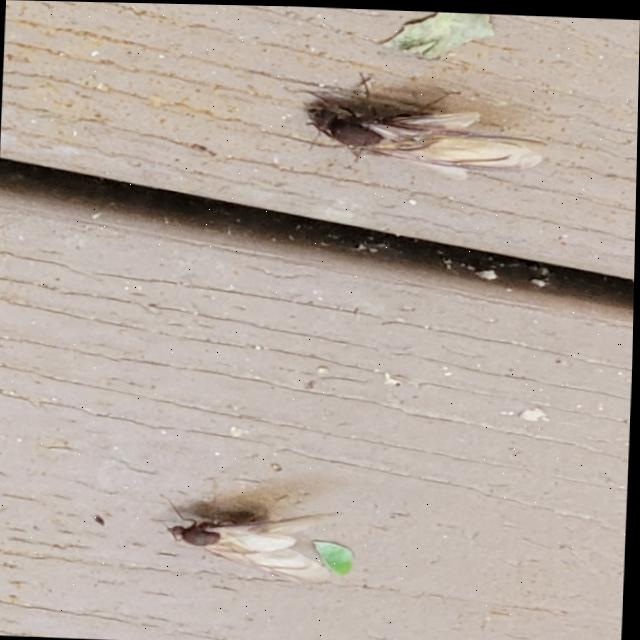Alive-Female-Alate: (278, 66, 552, 182)
Alive-Male-Alate: (149, 473, 349, 584)
